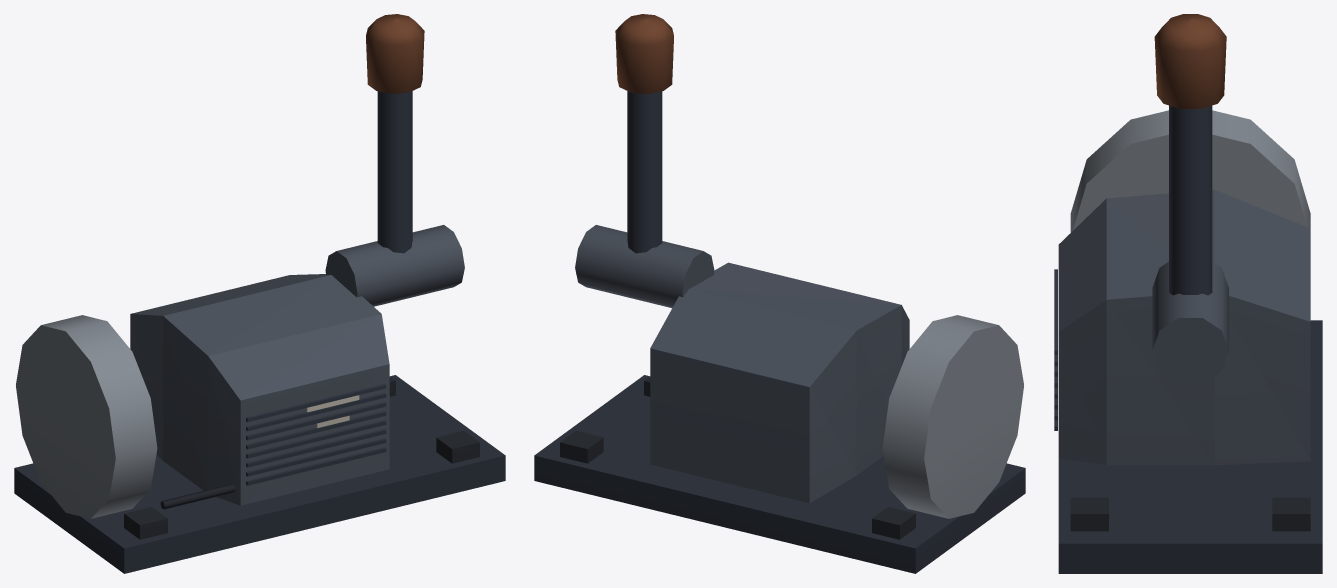
The model's file is generator_unit.glb.
3 renders of one model, left to right at view 1: azimuth 30°, elevation 25°; view 2: azimuth 150°, elevation 25°; view 3: azimuth 270°, elevation 25°, orthographic. The views are drawn at different scales.
Parts seen in each view (by area): view 1: generator_unit; view 2: generator_unit; view 3: generator_unit.
Part boxes in pixels (x1=…): generator_unit: x1=14, y1=14, x2=505, y2=573; generator_unit: x1=534, y1=14, x2=1025, y2=573; generator_unit: x1=1054, y1=14, x2=1322, y2=573.
Size of the model in its own units: 2.22 by 2.4 by 1.12.
